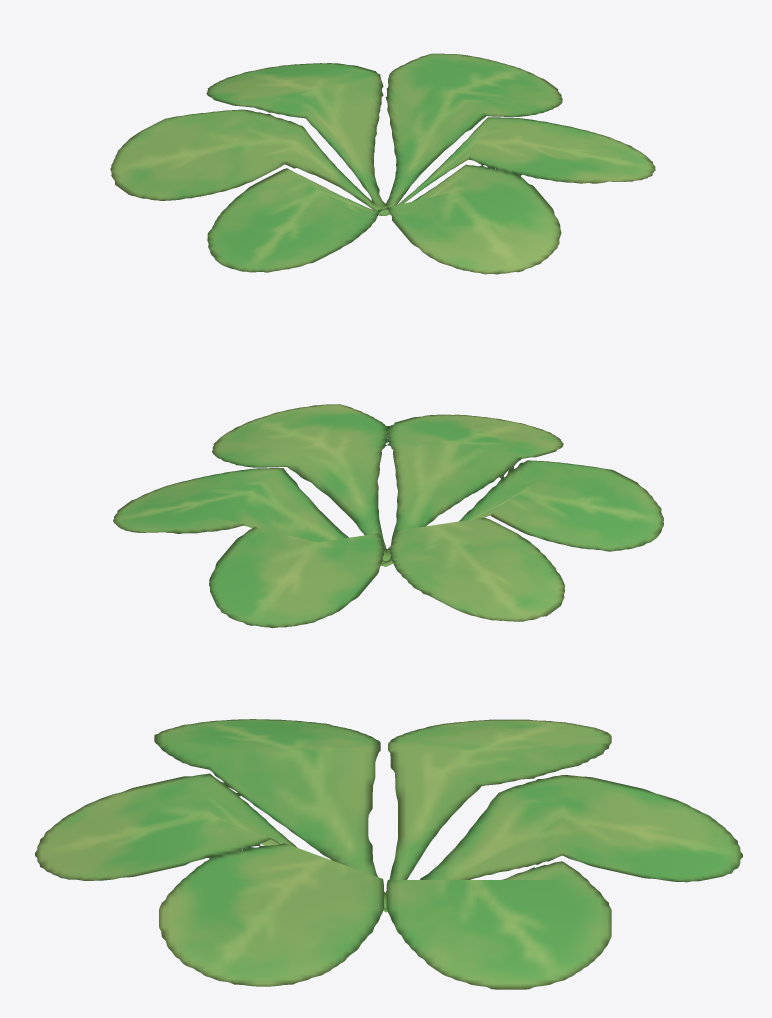
Rendered from LeafSetG_3.fbx.
The picture shows the model from 3 angles, top to bottom: view 1: azimuth 30°, elevation 25°; view 2: azimuth 150°, elevation 25°; view 3: azimuth 270°, elevation 25°; orthographic projection. The views are drawn at different scales.
Visible parts, largest first — view 1: LeafSetG_3; view 2: LeafSetG_3; view 3: LeafSetG_3.
Boxes of the visible parts, bbox=[...] form: LeafSetG_3: bbox=[110, 53, 655, 274]; LeafSetG_3: bbox=[113, 404, 663, 627]; LeafSetG_3: bbox=[35, 719, 742, 989].
Size of the model in its own units: 0.231 by 0.0361 by 0.2526.
